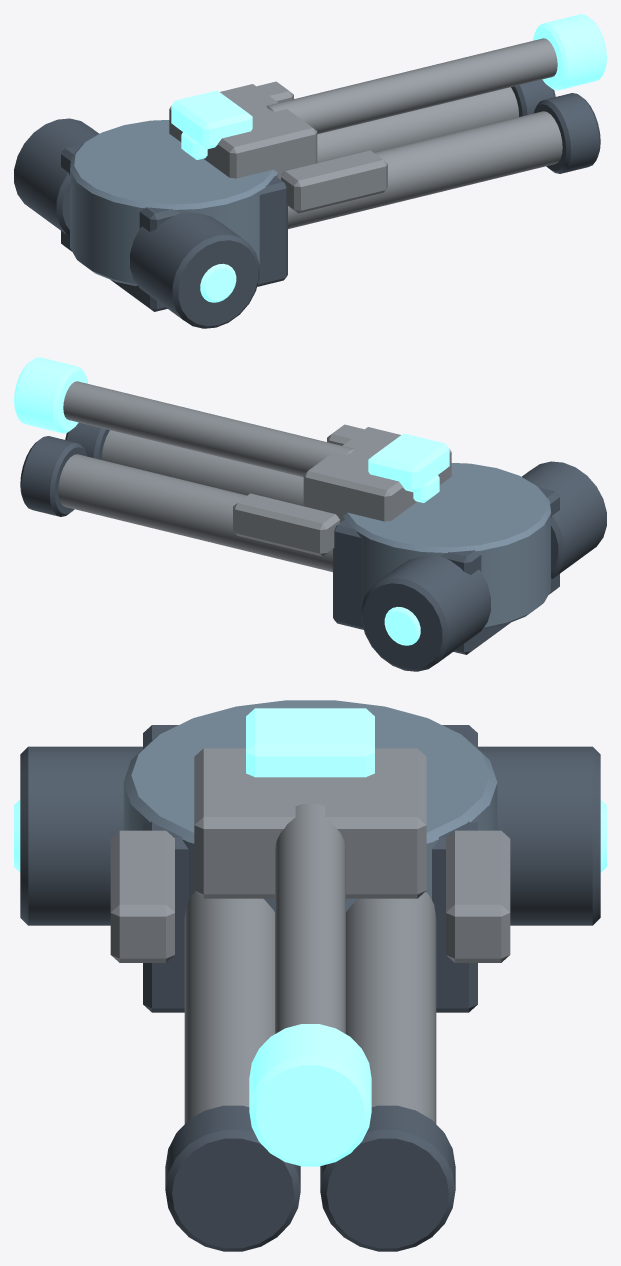
Rendered from gun_turret_l4.glb.
3 views of the same model, one above another, from view 1: azimuth 30°, elevation 25°; view 2: azimuth 150°, elevation 25°; view 3: azimuth 270°, elevation 25° (orthographic). The views are drawn at different scales.
Visible parts, largest first — view 1: Cylinder, Cylinder.001, Cylinder.009, Cylinder.005, Cube.001, Cylinder.003, Cylinder.007, Cube.004, Cube, Cylinder.010, Cylinder.002, Cube.002 (+4 smaller); view 2: Cylinder, Cylinder.003, Cylinder.009, Cylinder.007, Cube.001, Cylinder.001, Cylinder.005, Cube.005, Cube, Cylinder.010, Cylinder.004, Cube.002 (+4 smaller); view 3: Cube.001, Cylinder, Cylinder.005, Cylinder.007, Cylinder.001, Cylinder.003, Cylinder.009, Cylinder.002, Cylinder.004, Cylinder.010, Cube.002, Cube.004 (+2 smaller).
Part boxes in pixels (bbox=[...]): Cylinder: bbox=[70, 120, 277, 285]; Cylinder.001: bbox=[288, 111, 562, 229]; Cylinder.009: bbox=[266, 38, 557, 134]; Cylinder.005: bbox=[130, 212, 259, 328]; Cube.001: bbox=[169, 84, 317, 179]; Cylinder.003: bbox=[317, 87, 518, 163]; Cylinder.007: bbox=[14, 118, 98, 235]; Cube.004: bbox=[281, 150, 387, 213]; Cube: bbox=[61, 144, 287, 311]; Cylinder.010: bbox=[533, 14, 606, 90]; Cylinder.002: bbox=[533, 93, 600, 173]; Cube.002: bbox=[171, 90, 252, 149]; Cylinder: bbox=[343, 463, 550, 628]; Cylinder.003: bbox=[58, 454, 332, 572]; Cylinder.009: bbox=[63, 381, 354, 477]; Cylinder.007: bbox=[361, 555, 490, 671]; Cube.001: bbox=[303, 427, 451, 522]; Cylinder.001: bbox=[102, 430, 303, 506]; Cylinder.005: bbox=[522, 461, 606, 578]; Cube.005: bbox=[233, 493, 339, 556]; Cube: bbox=[333, 487, 559, 654]; Cylinder.010: bbox=[14, 357, 87, 433]; Cylinder.004: bbox=[20, 436, 87, 516]; Cube.002: bbox=[368, 433, 449, 492]; Cube.001: bbox=[194, 748, 426, 898]; Cylinder: bbox=[123, 700, 497, 912]; Cylinder.005: bbox=[20, 746, 142, 925]; Cylinder.007: bbox=[478, 746, 600, 925]; Cylinder.001: bbox=[184, 892, 274, 1123]; Cylinder.003: bbox=[346, 892, 436, 1123]; Cylinder.009: bbox=[275, 803, 345, 1033]; Cylinder.002: bbox=[165, 1105, 300, 1251]; Cylinder.004: bbox=[320, 1105, 455, 1251]; Cylinder.010: bbox=[249, 1024, 371, 1166]; Cube.002: bbox=[246, 708, 374, 777]; Cube.004: bbox=[110, 830, 174, 962].
Bounding box in the file's own units: 1.62 × 0.45 × 0.92.
